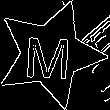M_N: (25, 27, 76, 81)
